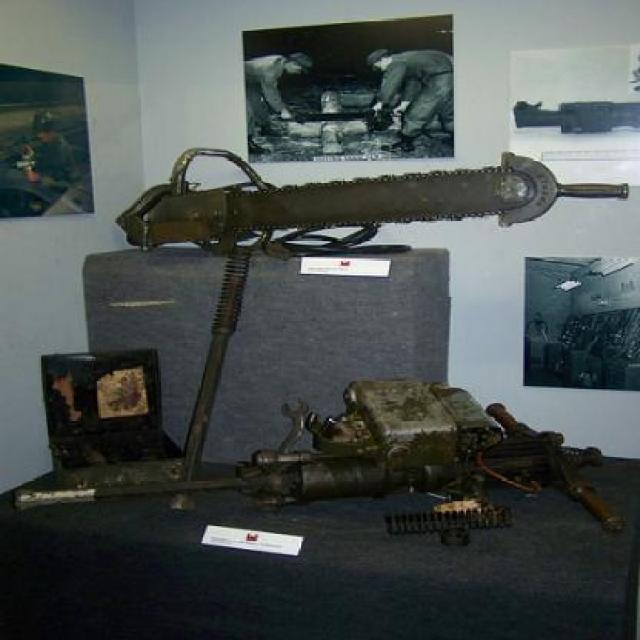Chainsaw: (114, 144, 628, 248)
